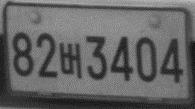0: (135, 36, 157, 82)
2: (35, 31, 58, 78)
3: (85, 35, 106, 80)
4: (107, 35, 133, 83), (159, 37, 183, 84)
8: (10, 31, 34, 76)
버: (58, 40, 84, 81)
